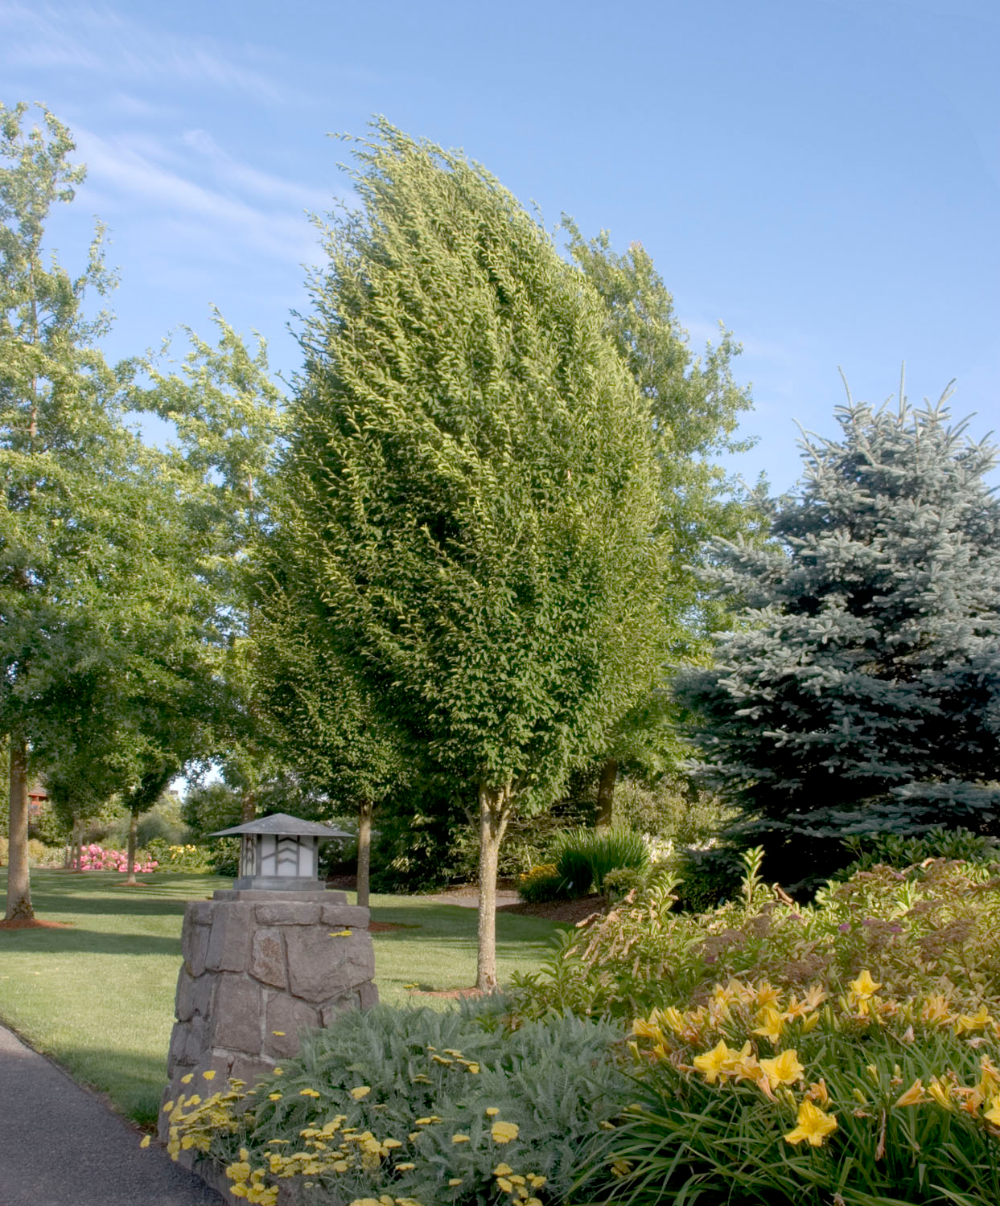tree: (246, 113, 674, 998)
